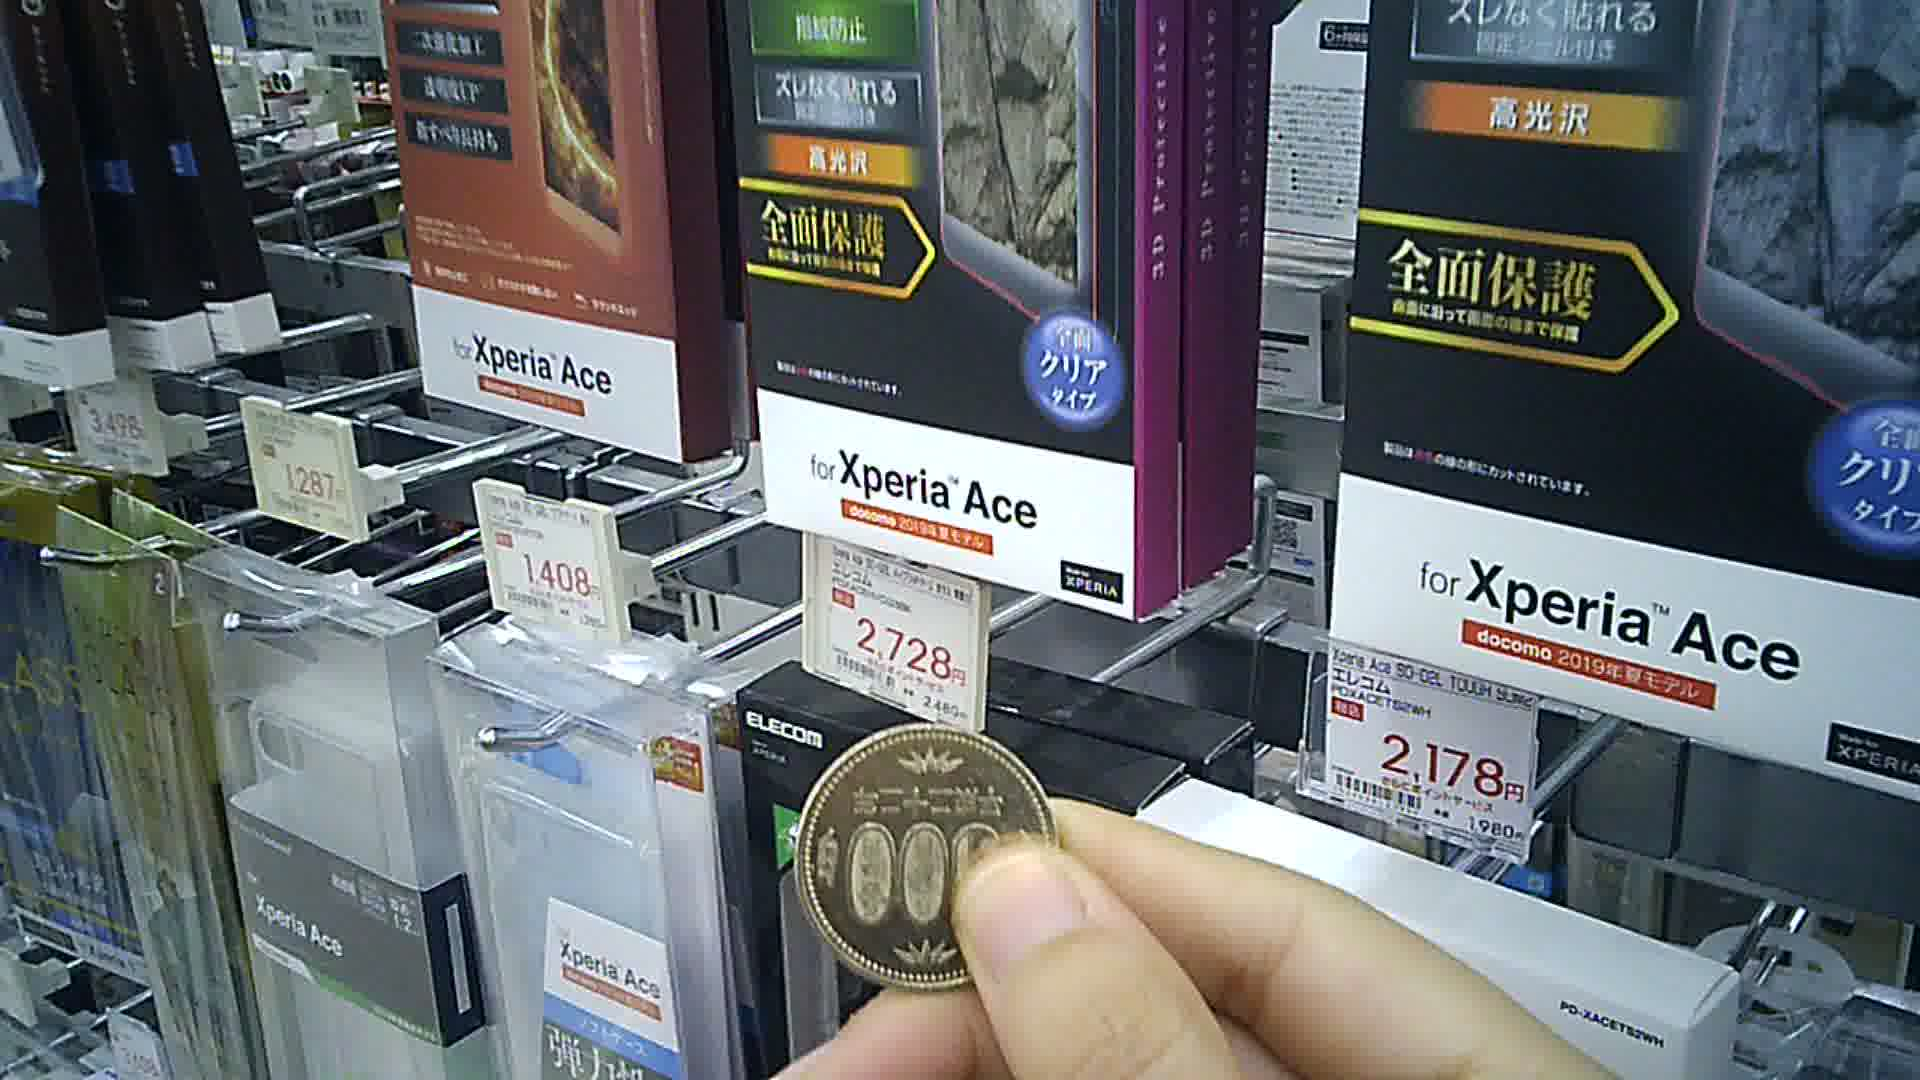500 Yen: (781, 717, 1077, 996)
